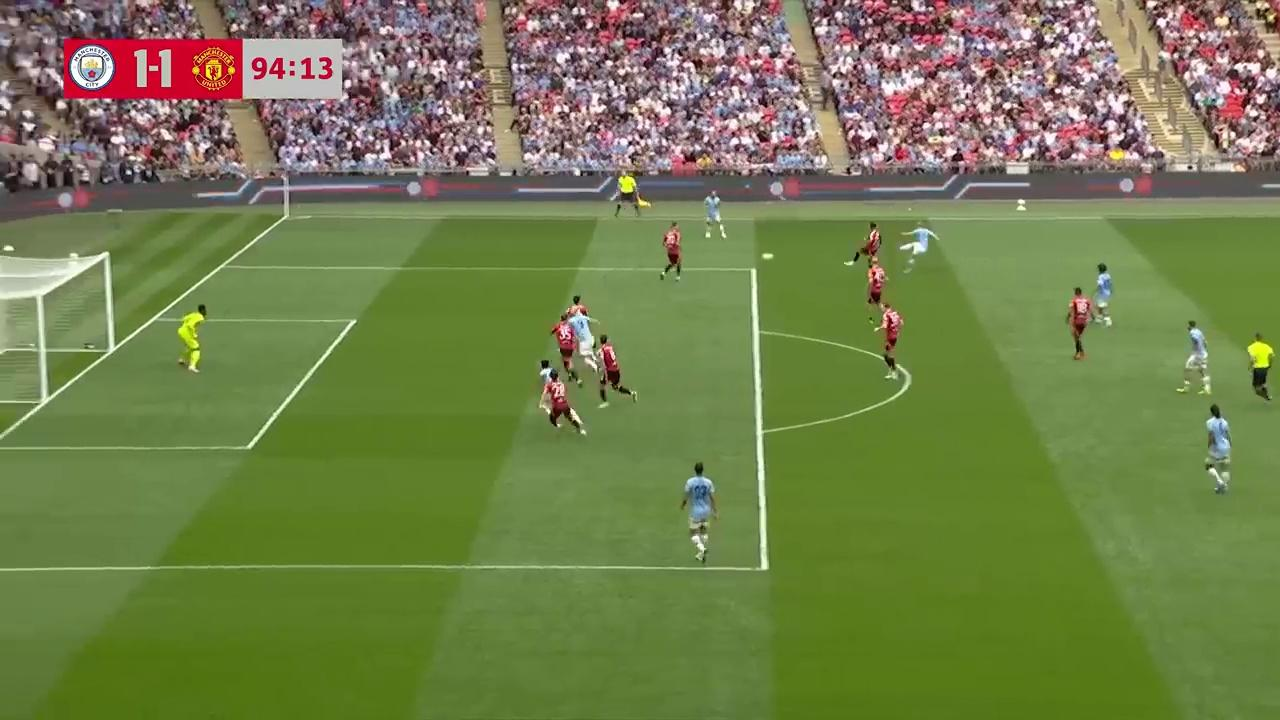ball: (760, 247, 776, 262)
player: (679, 461, 718, 562), (538, 366, 588, 437), (564, 298, 603, 377), (596, 335, 638, 408), (1176, 320, 1211, 395), (550, 312, 584, 386), (1205, 405, 1231, 494), (876, 302, 904, 380), (566, 293, 600, 354), (177, 304, 206, 374), (901, 221, 939, 270), (1065, 286, 1090, 360), (538, 359, 562, 431), (845, 222, 881, 267), (866, 256, 887, 328), (659, 222, 683, 281), (1093, 263, 1114, 328), (704, 190, 727, 239)
referee: (1246, 330, 1275, 404), (613, 168, 648, 218)
